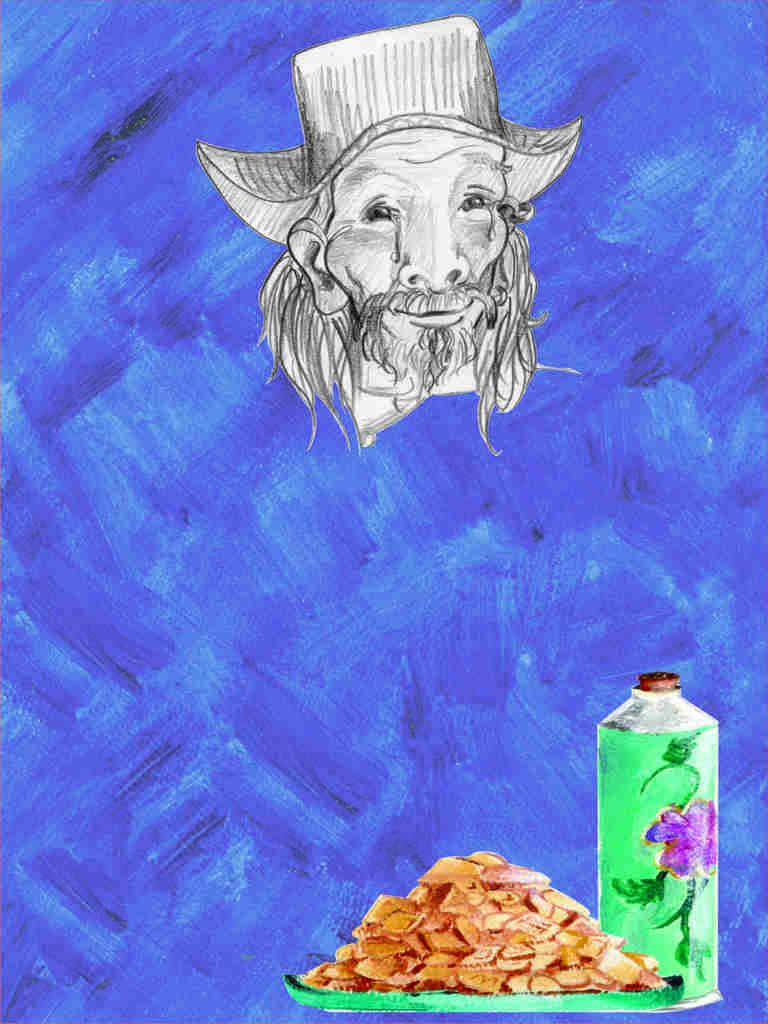Hat: (198, 16, 584, 245)
